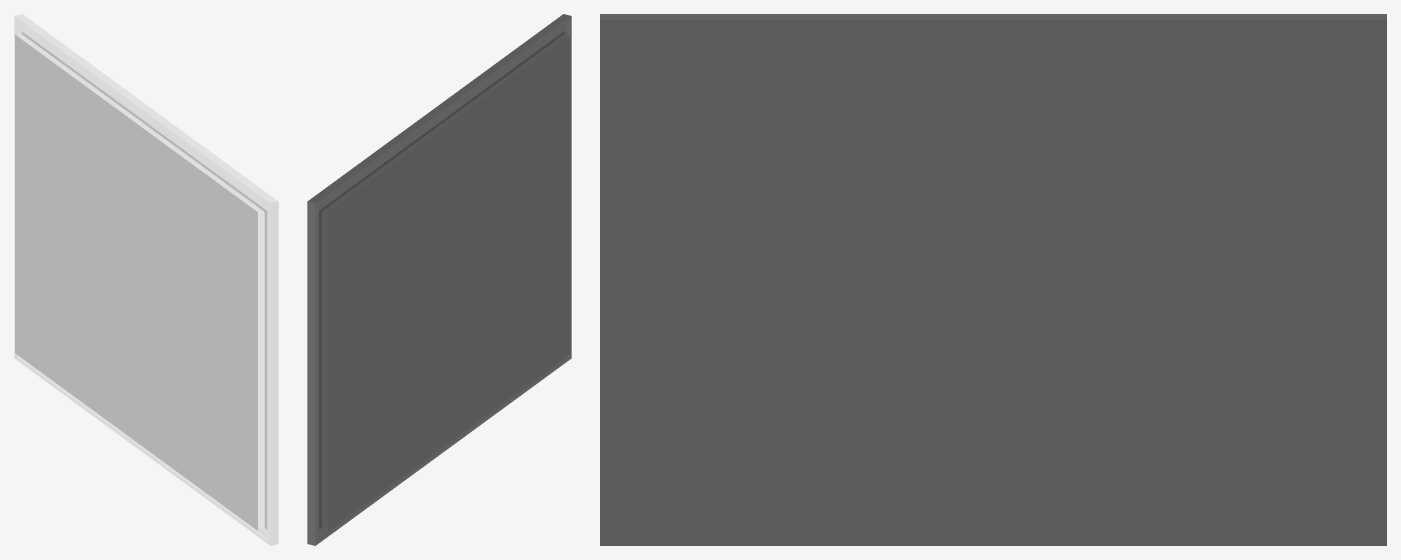
File: Mirror_f5383dac.obj
3 views of the same model, side by side, from view 1: azimuth 30°, elevation 25°; view 2: azimuth 150°, elevation 25°; view 3: azimuth 270°, elevation 25° (orthographic). The views are drawn at different scales.
Parts seen in each view (by area): view 1: DeferredDecalSpawnPlane_526a39d2, MirrorMesh_562e78d4, MirrorDecals_a2a48f42, MirrorReflection_dde2313b; view 2: DeferredDecalSpawnPlane_526a39d2, MirrorMesh_562e78d4, MirrorDecals_a2a48f42, MirrorReflection_dde2313b; view 3: MirrorMesh_562e78d4.
Part boxes in pixels (left/top/right/bottom): DeferredDecalSpawnPlane_526a39d2: left=15, top=34, right=257, bottom=530; MirrorMesh_562e78d4: left=14, top=14, right=278, bottom=545; MirrorDecals_a2a48f42: left=19, top=32, right=264, bottom=530; MirrorReflection_dde2313b: left=21, top=31, right=267, bottom=529; DeferredDecalSpawnPlane_526a39d2: left=328, top=34, right=570, bottom=530; MirrorMesh_562e78d4: left=307, top=14, right=571, bottom=545; MirrorDecals_a2a48f42: left=321, top=32, right=567, bottom=529; MirrorReflection_dde2313b: left=319, top=31, right=564, bottom=529; MirrorMesh_562e78d4: left=600, top=14, right=1386, bottom=545.
Bounding box in the file's own units: 0.0479 × 1.11 × 1.51.
